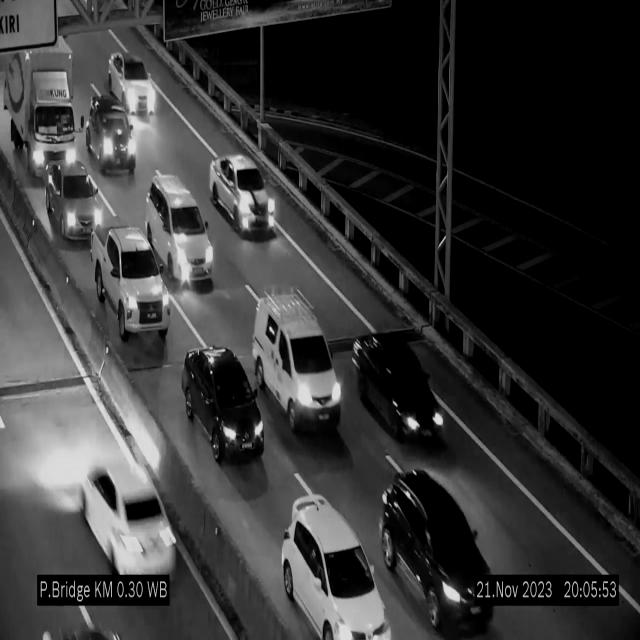Car: (383, 470, 493, 640), (282, 491, 389, 640), (252, 290, 342, 431), (350, 326, 448, 447), (88, 222, 172, 342), (182, 346, 264, 464), (146, 175, 214, 288), (208, 153, 276, 238), (44, 158, 103, 243), (85, 93, 136, 175), (108, 46, 159, 120)
Truck: (5, 43, 78, 179)
